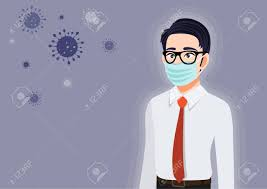masked: (158, 19, 211, 86)
